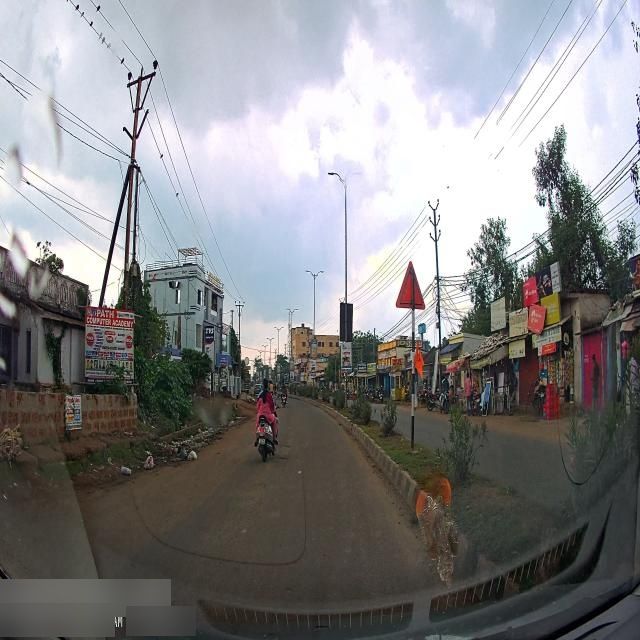pothole: (256, 476, 268, 501), (274, 453, 289, 466), (280, 437, 291, 452)
